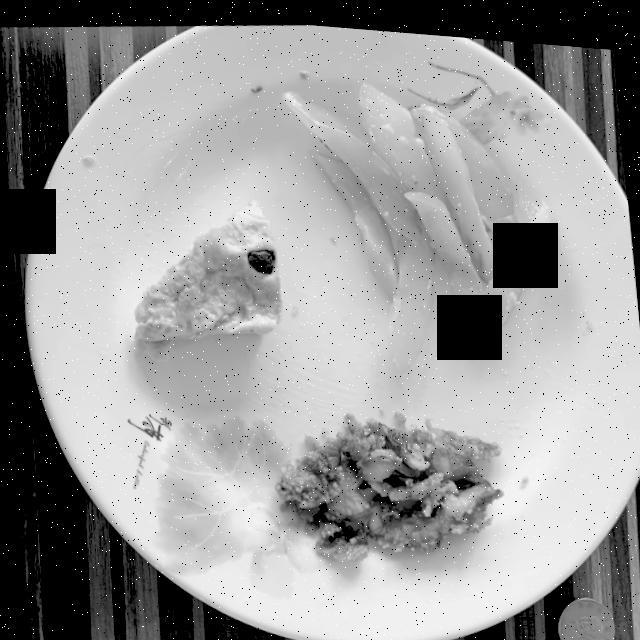coin: (557, 587, 613, 640)
red grilled pork: (274, 405, 500, 555)
